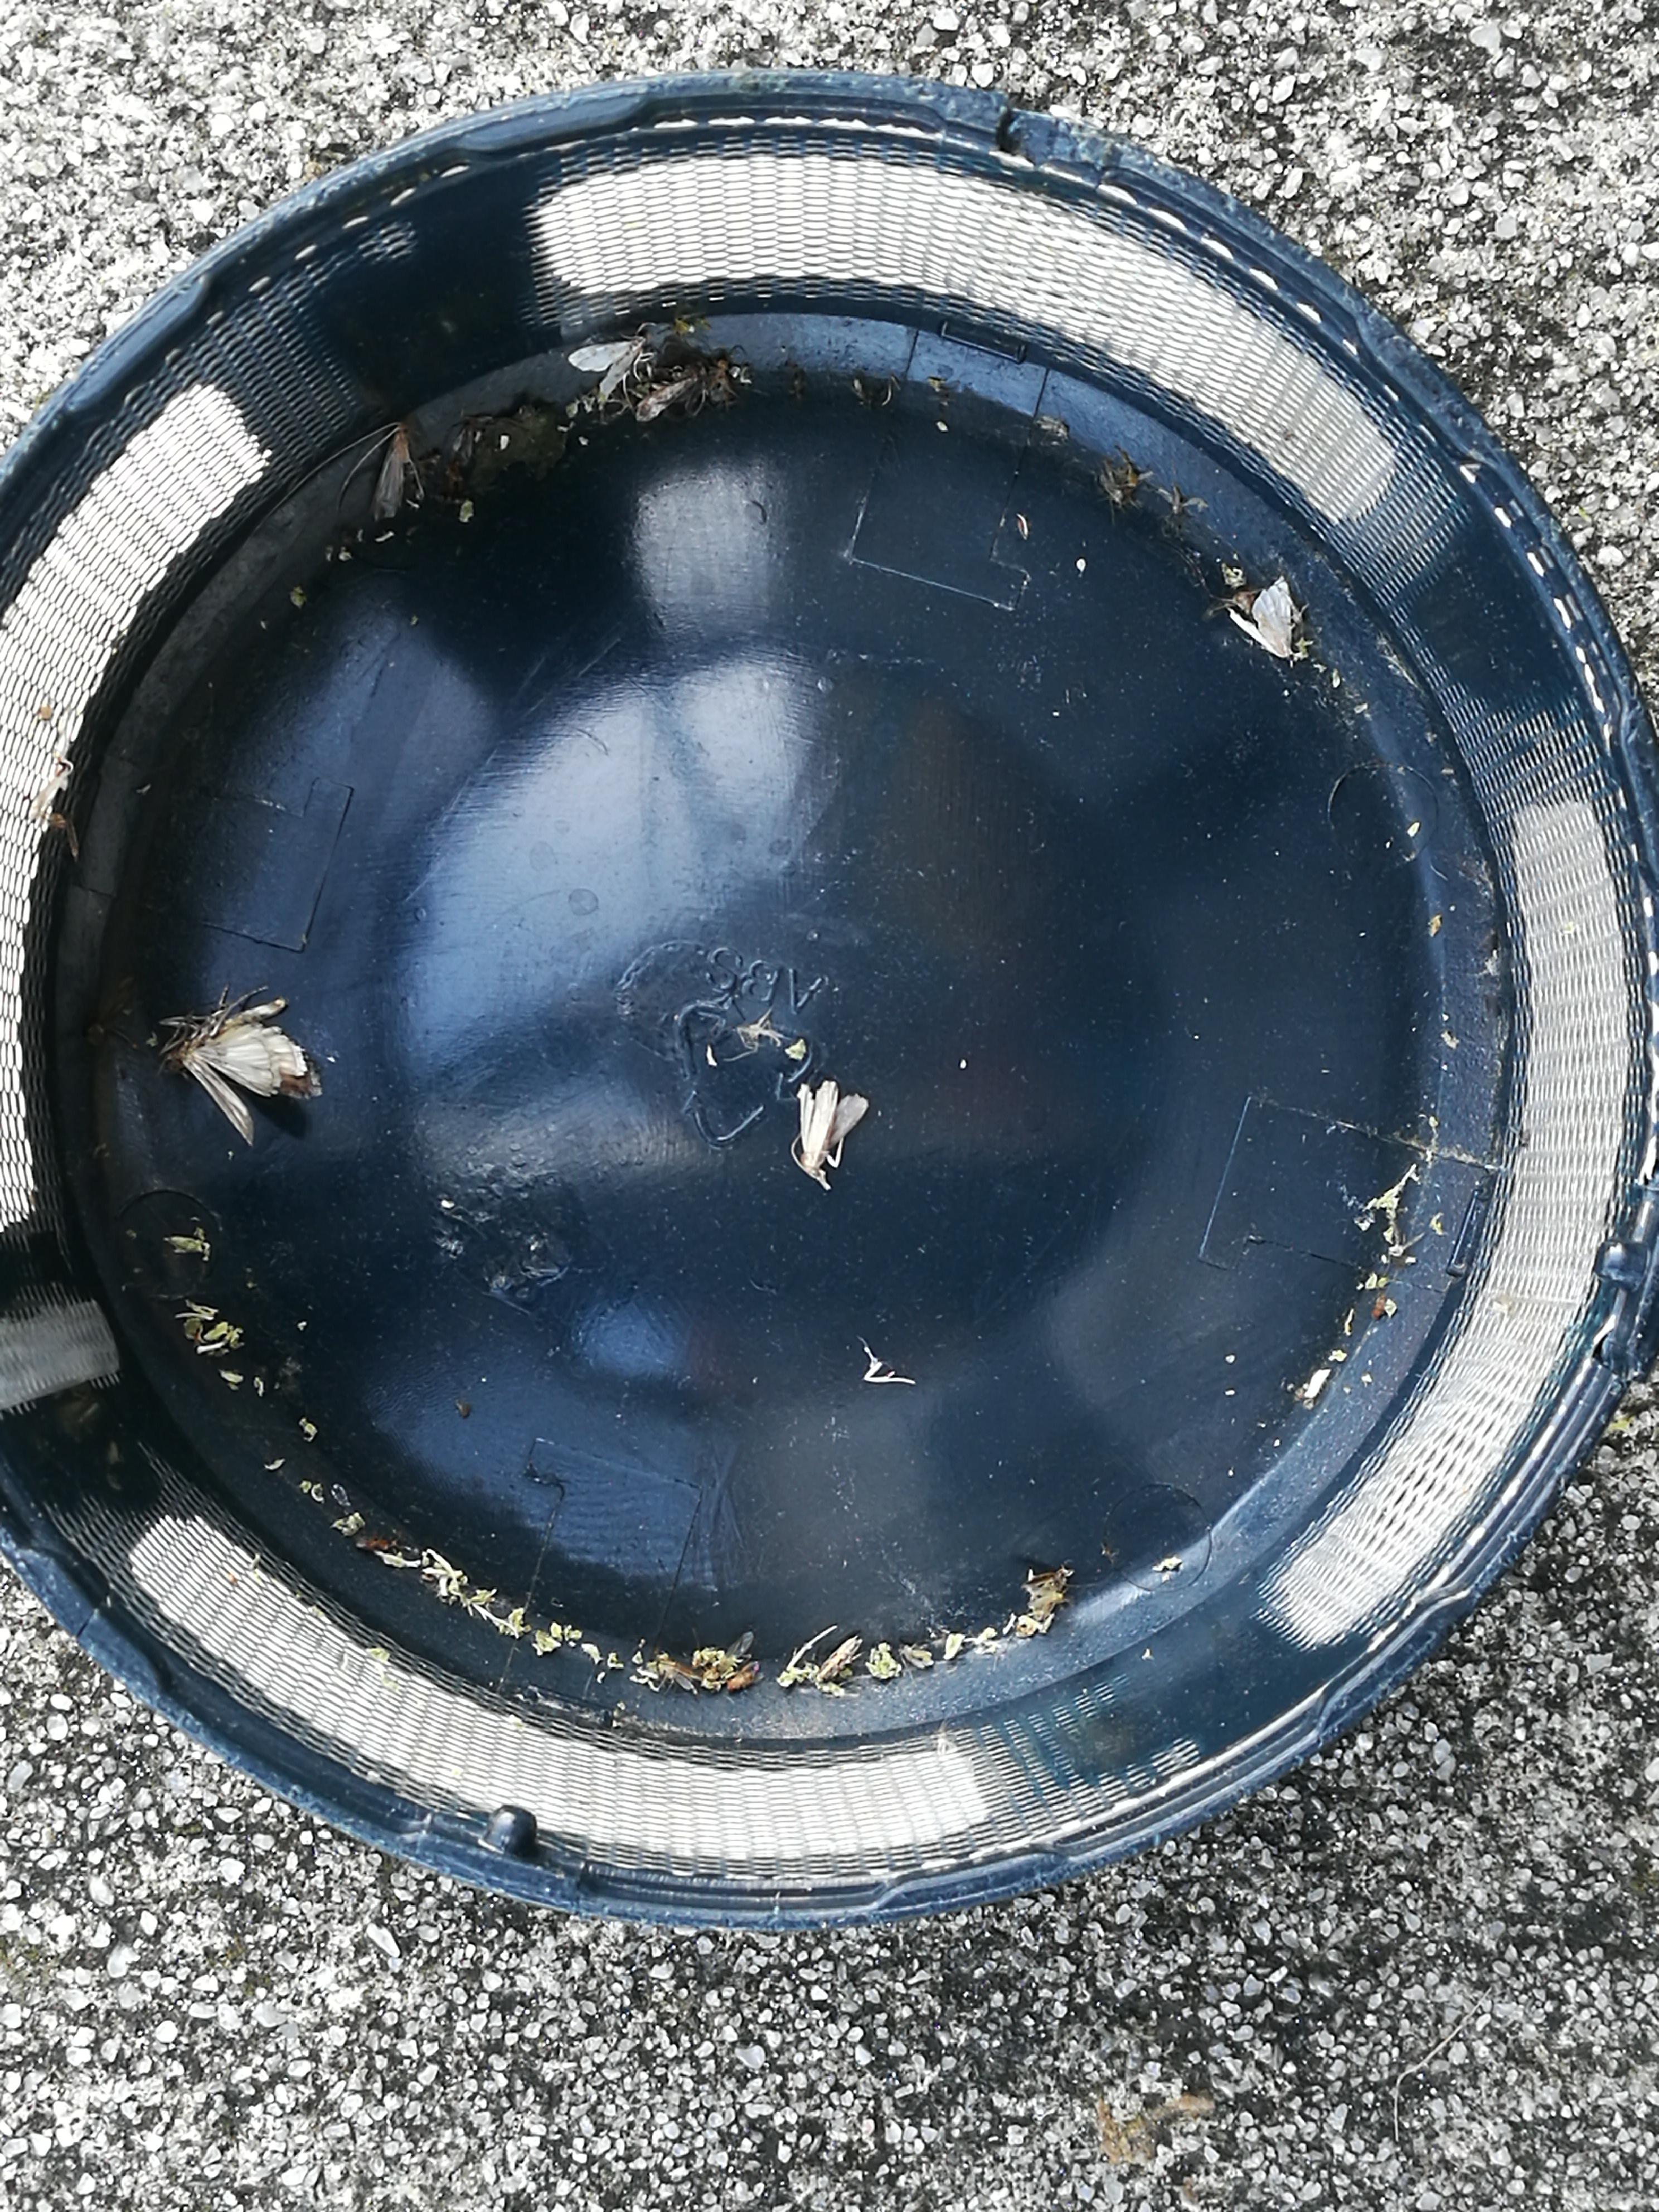mosquito: (373, 423, 411, 521), (634, 376, 699, 421), (817, 1635, 859, 1681)
moth: (185, 1026, 322, 1143), (800, 1082, 868, 1176), (1229, 575, 1291, 660), (568, 338, 643, 397)
